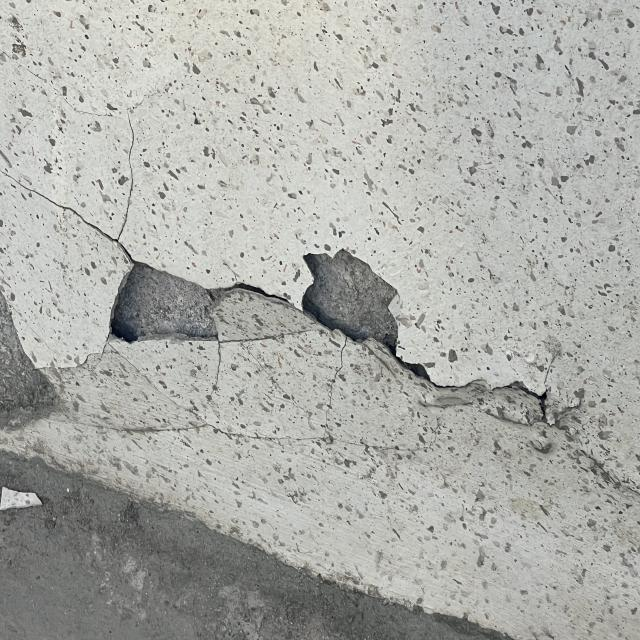spalling: (80, 193, 610, 482)
